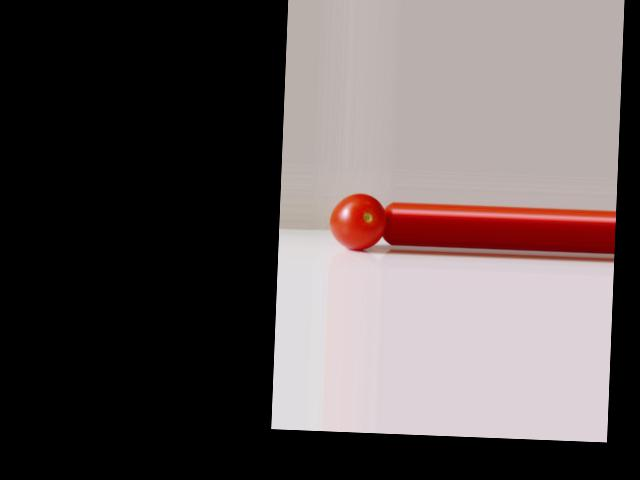tomato: (328, 192, 387, 250)
